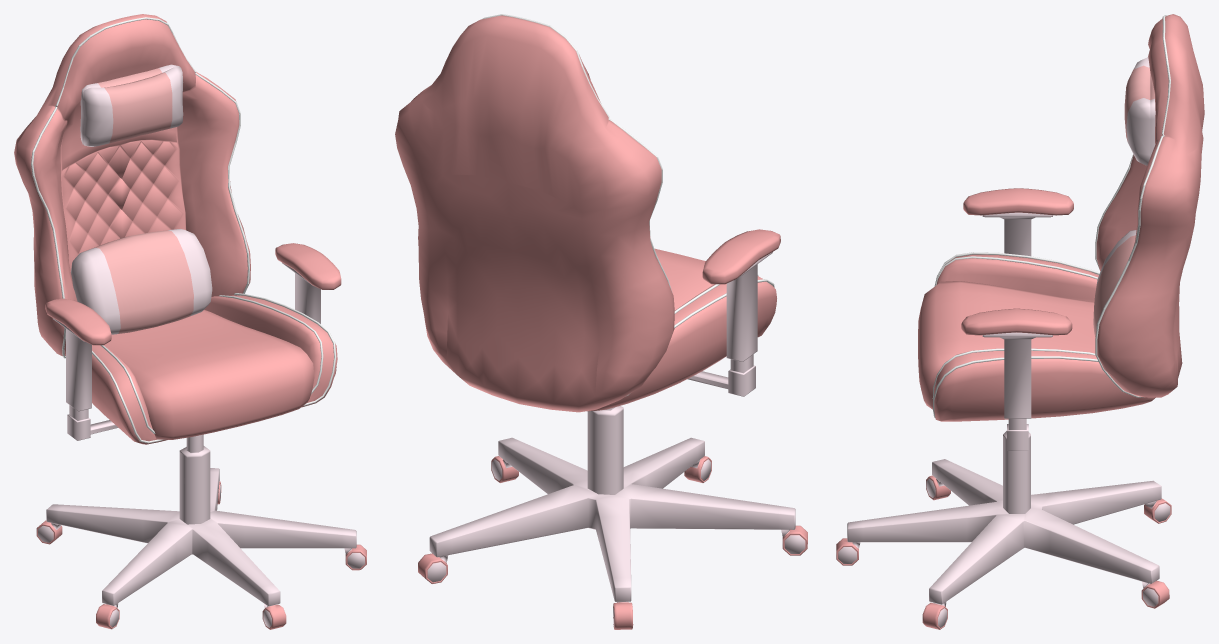
The model's file is gamingchair.glb.
3 views of the same model, side by side, from view 1: azimuth 30°, elevation 25°; view 2: azimuth 150°, elevation 25°; view 3: azimuth 270°, elevation 25° (orthographic). The views are drawn at different scales.
Parts seen in each view (by area): view 1: Object_2, Object_4, Object_3, Object_5; view 2: Object_2, Object_4, Object_5; view 3: Object_2, Object_4, Object_5, Object_3.
Boxes of the visible parts, bbox=[...] form: Object_2: bbox=[14, 14, 366, 629]; Object_4: bbox=[38, 64, 364, 627]; Object_3: bbox=[93, 68, 193, 333]; Object_5: bbox=[31, 17, 336, 443]; Object_2: bbox=[395, 15, 807, 629]; Object_4: bbox=[427, 252, 805, 626]; Object_5: bbox=[482, 14, 774, 396]; Object_2: bbox=[836, 14, 1204, 629]; Object_4: bbox=[838, 57, 1170, 627]; Object_5: bbox=[932, 15, 1170, 417]; Object_3: bbox=[1093, 65, 1154, 337].
Bounding box in the file's own units: 2.66 × 4.71 × 2.93.
